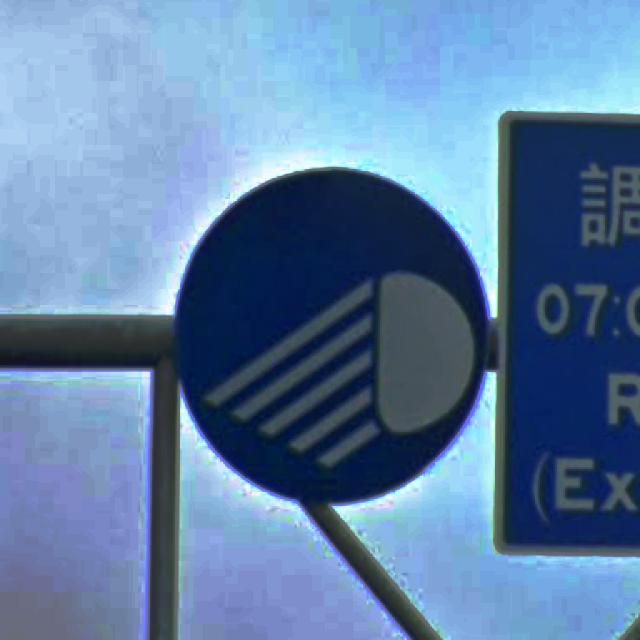lightson: (176, 171, 485, 501)
